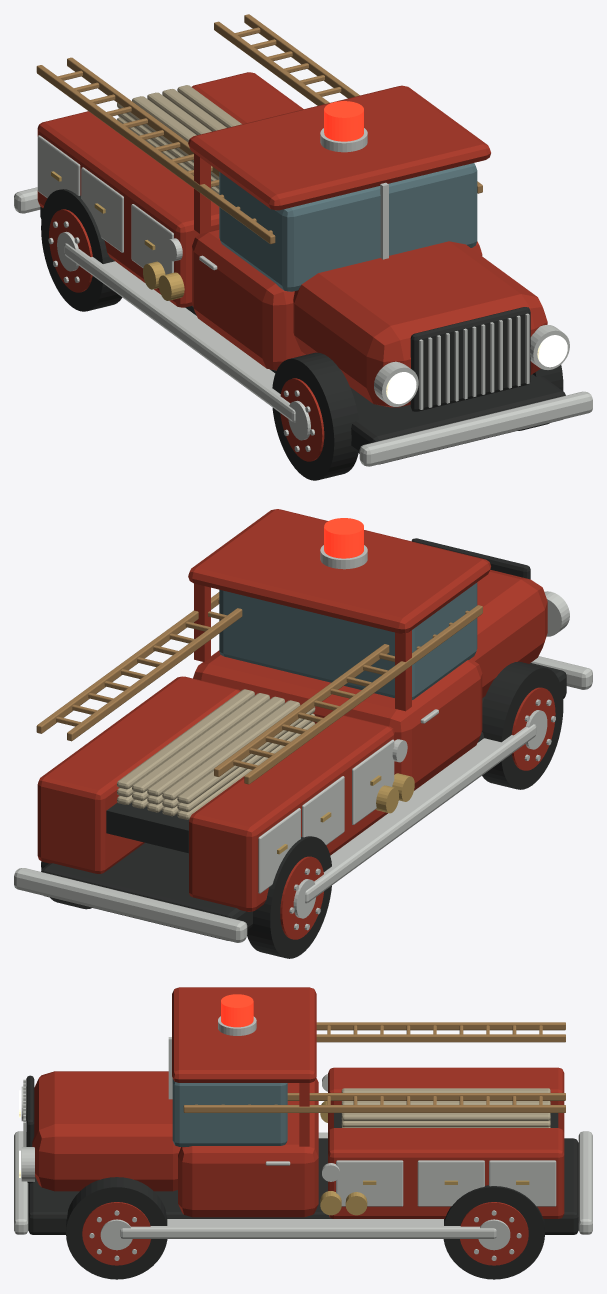
Rendered from fire-engine.glb.
The picture shows the model from 3 angles, top to bottom: view 1: azimuth 30°, elevation 25°; view 2: azimuth 150°, elevation 25°; view 3: azimuth 270°, elevation 25°; orthographic projection. The views are drawn at different scales.
Visible parts, largest first — view 1: rounded bonnet, windscreen divider, truck frame, split windscreen, ladder rail, folded hose, headlamp lens, red rotating beacon, locker latch; view 2: rounded bonnet, windscreen divider, truck frame, split windscreen, ladder rail, folded hose, red rotating beacon, locker latch; view 3: rounded bonnet, windscreen divider, truck frame, ladder rail, split windscreen, folded hose, locker latch, red rotating beacon.
Boxes of the visible parts, bbox=[...] form: rounded bonnet: bbox=[37, 72, 547, 461]; windscreen divider: bbox=[14, 128, 592, 466]; truck frame: bbox=[40, 189, 565, 480]; split windscreen: bbox=[219, 163, 477, 291]; ladder rail: bbox=[36, 14, 482, 244]; folded hose: bbox=[117, 85, 241, 194]; headlamp lens: bbox=[386, 335, 567, 403]; red rotating beacon: bbox=[324, 101, 363, 141]; locker latch: bbox=[51, 171, 184, 300]; rounded bonnet: bbox=[37, 509, 555, 939]; windscreen divider: bbox=[14, 545, 592, 942]; truck frame: bbox=[41, 538, 566, 958]; split windscreen: bbox=[219, 582, 477, 699]; ladder rail: bbox=[36, 592, 482, 784]; folded hose: bbox=[117, 689, 315, 819]; red rotating beacon: bbox=[324, 518, 363, 558]; locker latch: bbox=[277, 773, 414, 854]; rounded bonnet: bbox=[32, 987, 564, 1265]; windscreen divider: bbox=[14, 1016, 592, 1260]; truck frame: bbox=[26, 1075, 578, 1279]; ladder rail: bbox=[183, 1022, 565, 1112]; split windscreen: bbox=[172, 1078, 287, 1146]; folded hose: bbox=[341, 1088, 550, 1127]; locker latch: bbox=[320, 1101, 529, 1215]; red rotating beacon: bbox=[221, 994, 253, 1027].
Size of the model in its own units: 2.26 by 2.52 by 5.68.
